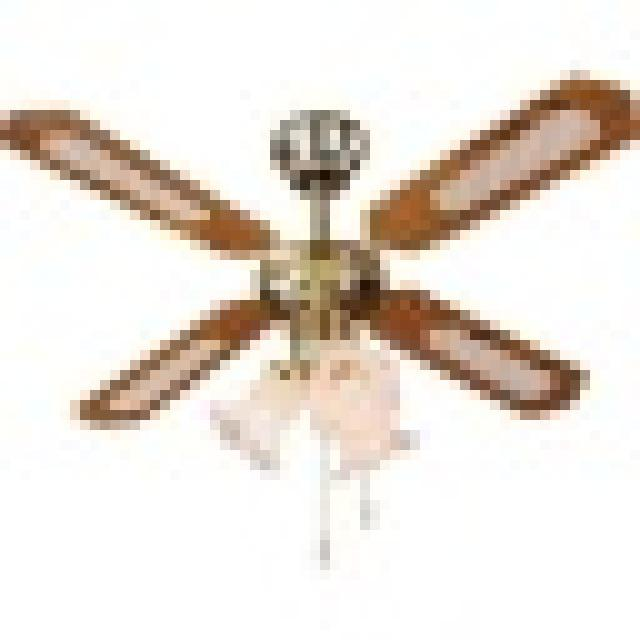fan_off: (14, 93, 640, 426)
